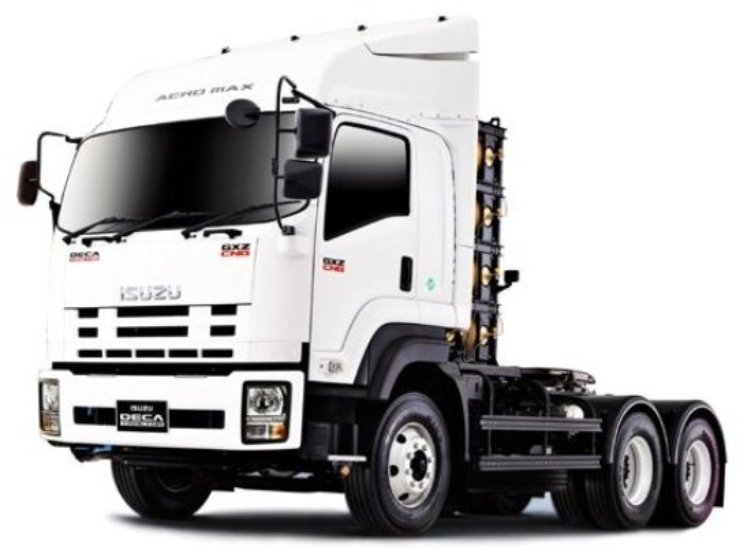truck: (36, 11, 731, 536)
